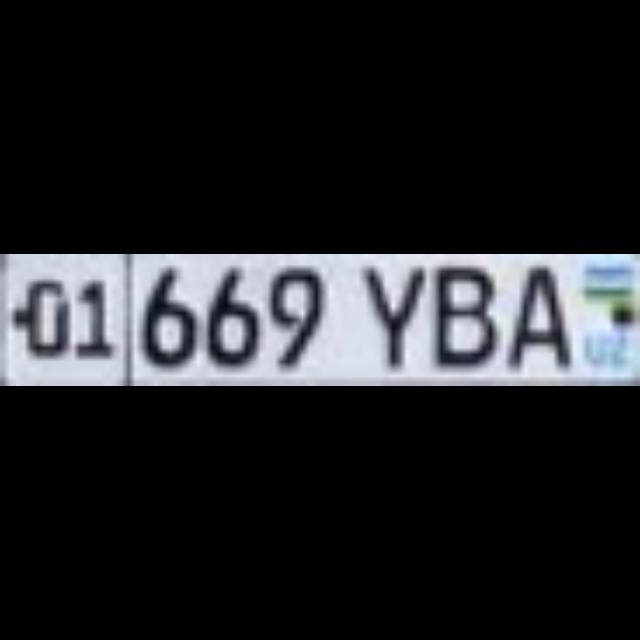0: (14, 268, 56, 352)
1: (62, 268, 104, 352)
6: (125, 262, 188, 358), (195, 262, 251, 358)
9: (257, 262, 313, 358)
A: (501, 262, 564, 358)
B: (424, 262, 488, 358)
Y: (354, 262, 418, 358)
